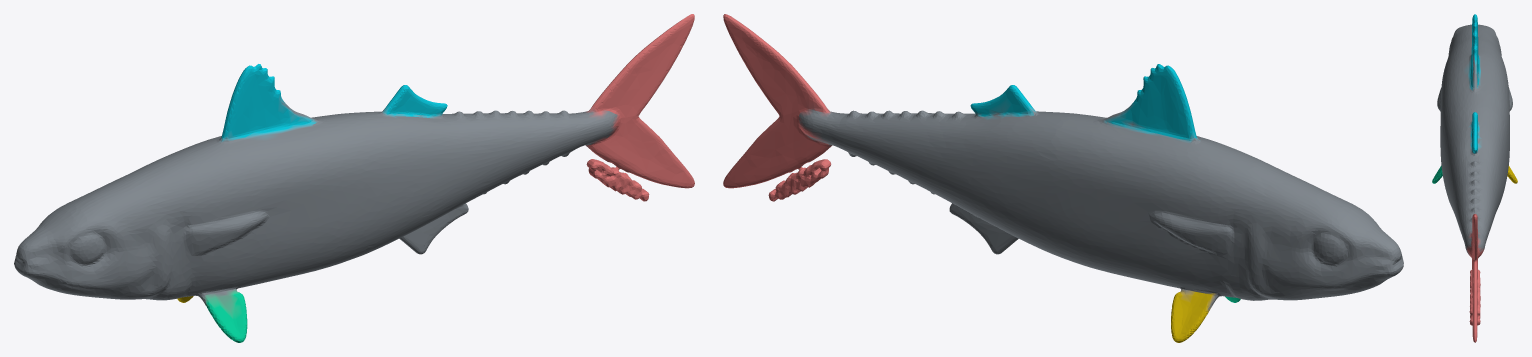
The model's file is mackeral_segmented.glb.
3 views of the same model, side by side, from view 1: azimuth 30°, elevation 25°; view 2: azimuth 150°, elevation 25°; view 3: azimuth 270°, elevation 25° (orthographic). The views are drawn at different scales.
Parts seen in each view (by area): view 1: world; view 2: world; view 3: world.
Boxes of the visible parts, x1=… form: world: x1=14, y1=14, x2=694, y2=342; world: x1=723, y1=14, x2=1403, y2=342; world: x1=1432, y1=14, x2=1517, y2=342.
Size of the model in its own units: 1.91 by 0.6697 by 0.285.
